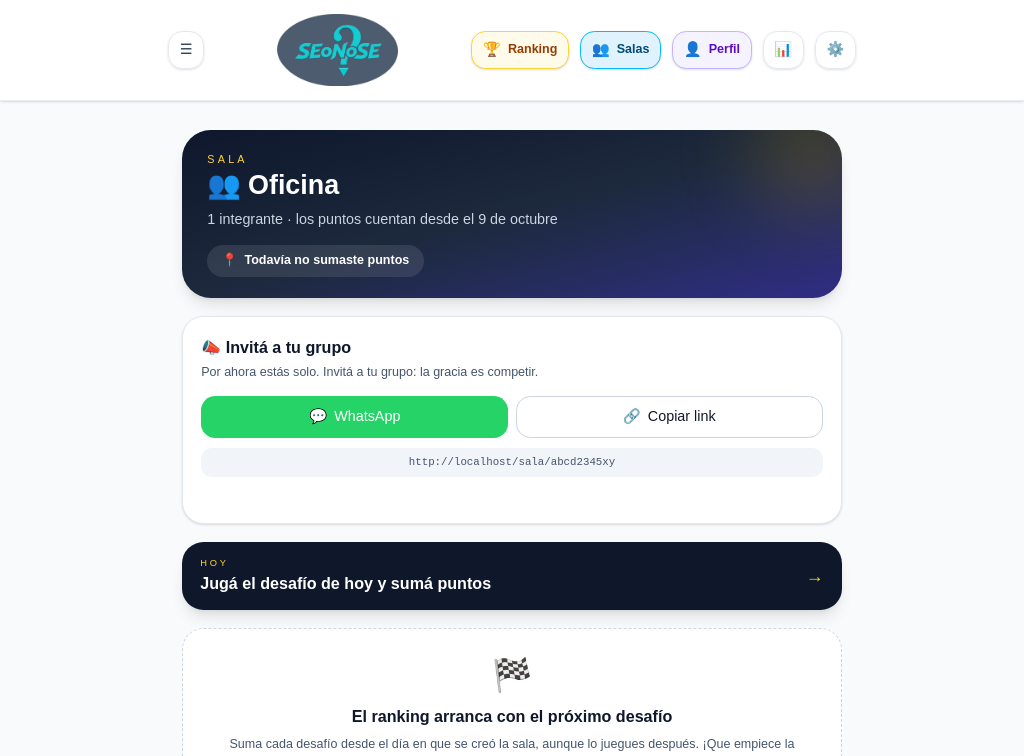
Scenario: pantalla de la sala › copia el link de invitación
Step 1. Click the button "🔗 Copiar link" → (669,417), box [516,396,823,438]
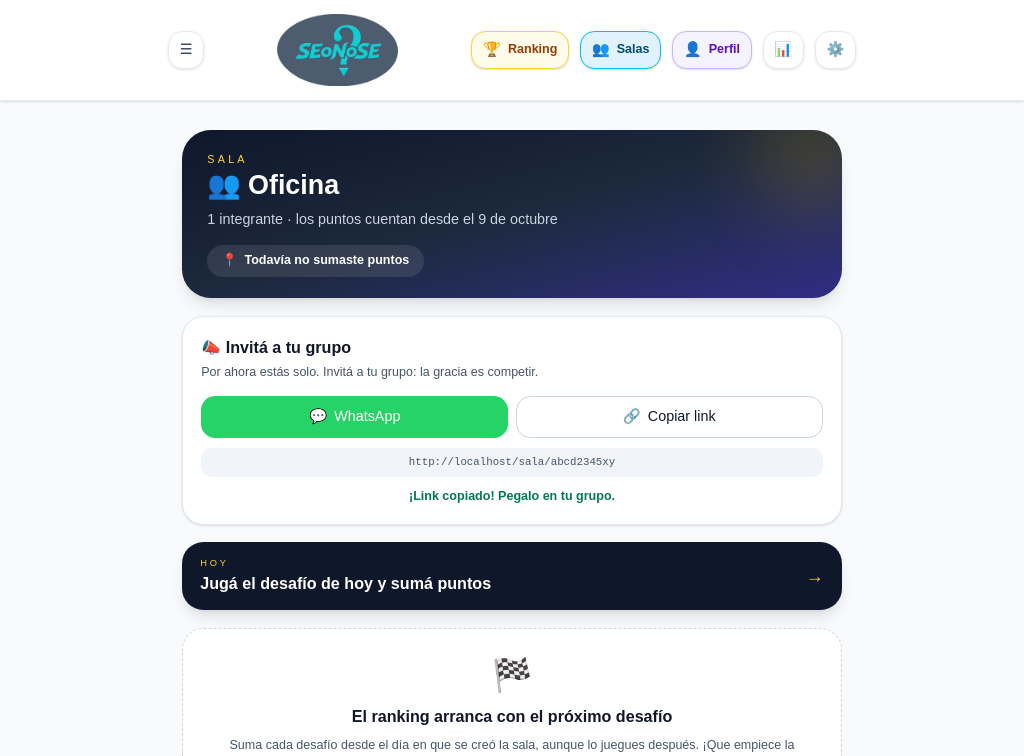
Expected: the text "¡Link copiado! Pegalo en tu grupo." is shown, [409,489,615,503]
